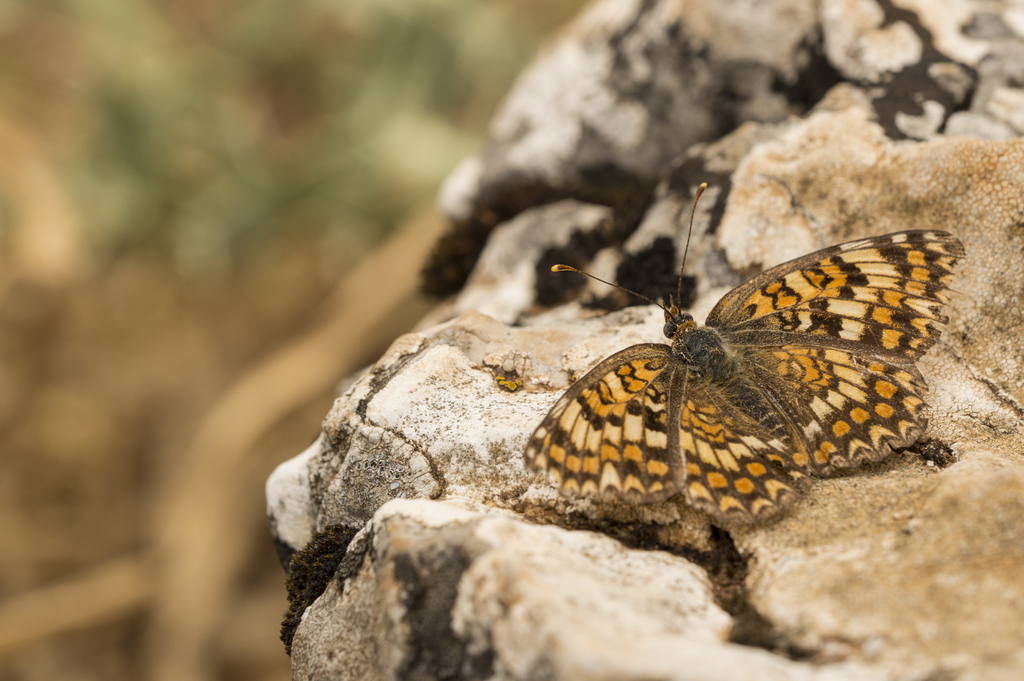Butterfly: (523, 215, 979, 538)
